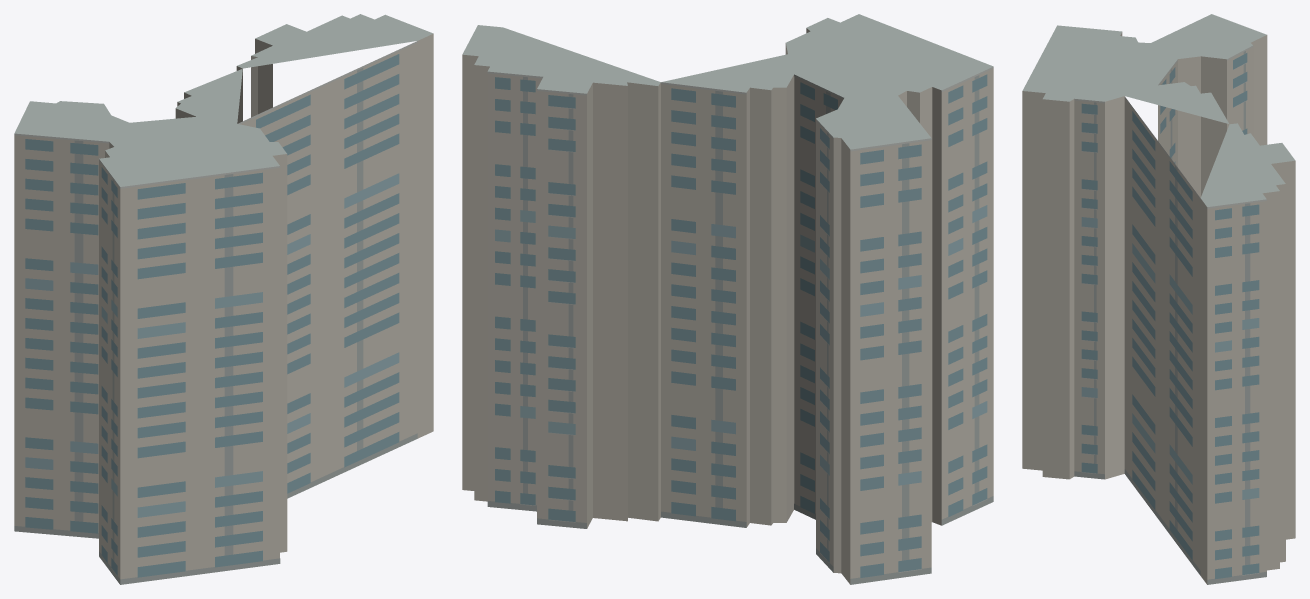
File: residential-fc52e78a-9242-4024-9468-f0d1a2baac74.glb
The picture shows the model from 3 angles, left to right: view 1: azimuth 30°, elevation 25°; view 2: azimuth 150°, elevation 25°; view 3: azimuth 270°, elevation 25°; orthographic projection. The views are drawn at different scales.
Visible parts, largest first — view 1: residential-fc52e78a-9242-4024-9468-f0d1a2baac74.tmp; view 2: residential-fc52e78a-9242-4024-9468-f0d1a2baac74.tmp; view 3: residential-fc52e78a-9242-4024-9468-f0d1a2baac74.tmp.
Boxes of the visible parts, box(x1,y1,x2,y2) form: residential-fc52e78a-9242-4024-9468-f0d1a2baac74.tmp: box(14, 14, 433, 584); residential-fc52e78a-9242-4024-9468-f0d1a2baac74.tmp: box(462, 14, 993, 584); residential-fc52e78a-9242-4024-9468-f0d1a2baac74.tmp: box(1022, 14, 1295, 584).
Size of the model in its own units: 62.53 by 57 by 37.37.
